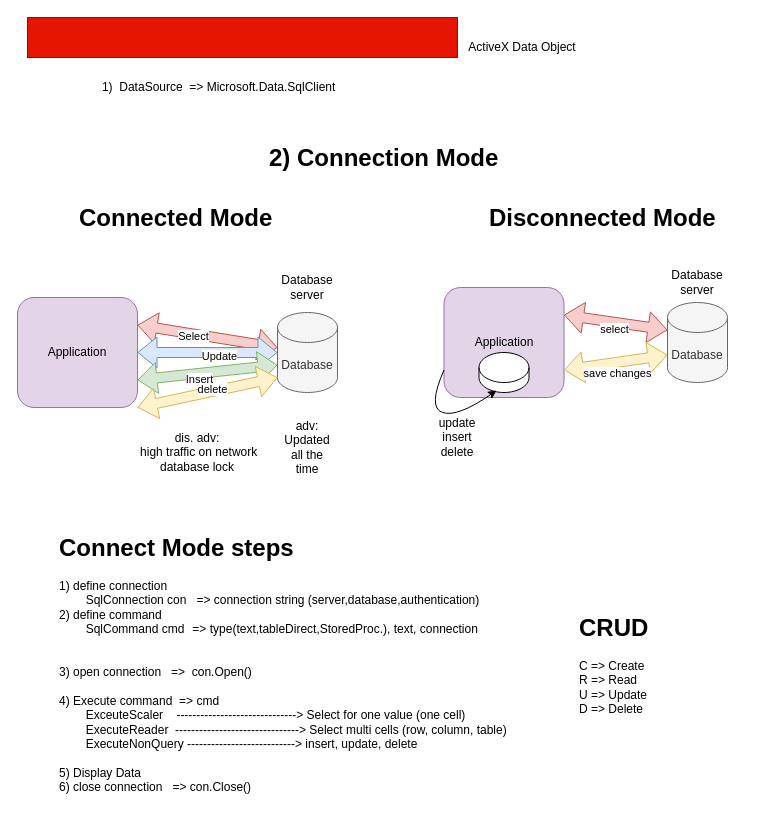
The diagram is 775 pixels wide and 828 high, and some of its shapes have lost their labels. The centre of each missing label's shape, as x and y in pixels:
ADO.net: point (242, 37)
Data: point (503, 372)
